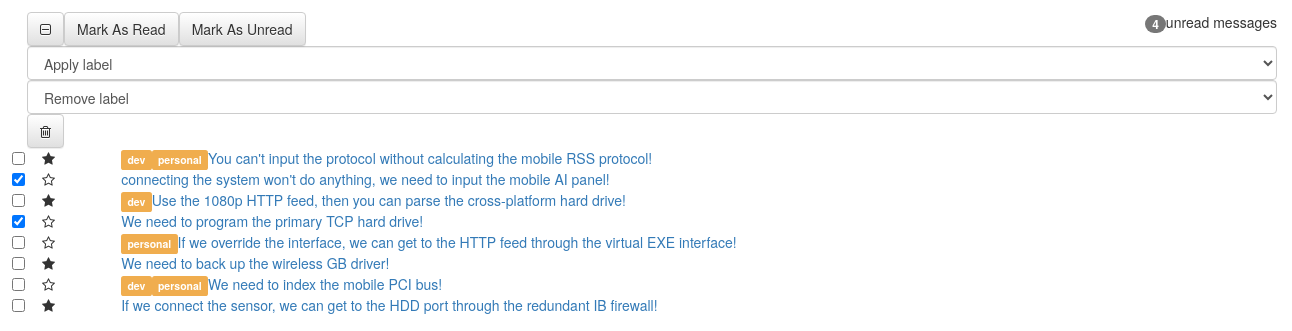
Scenario: landing page › select all › should select all
Click the button with id "selectAllButton" at (46, 29), box [27,12,64,46]
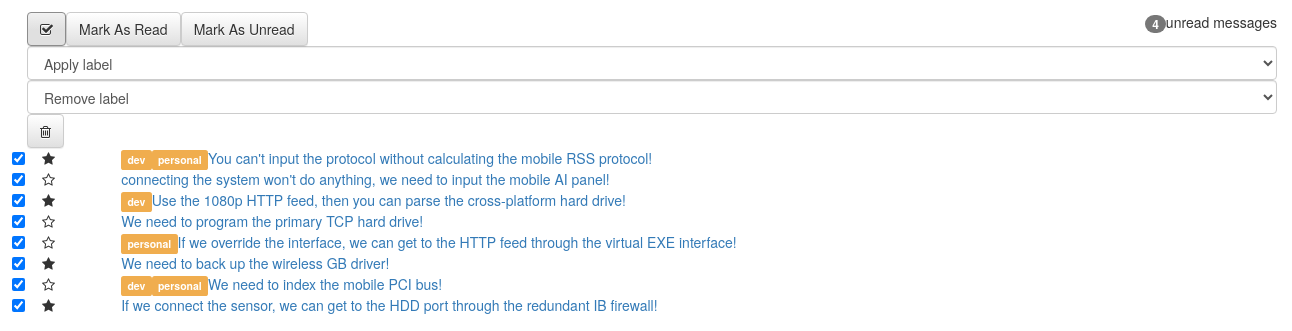
Expected: the number of icons with class "fa-check-square-o" is 1, [40,23,53,37]
Now the 1st checkbox is checked, box [12,152,25,165]
